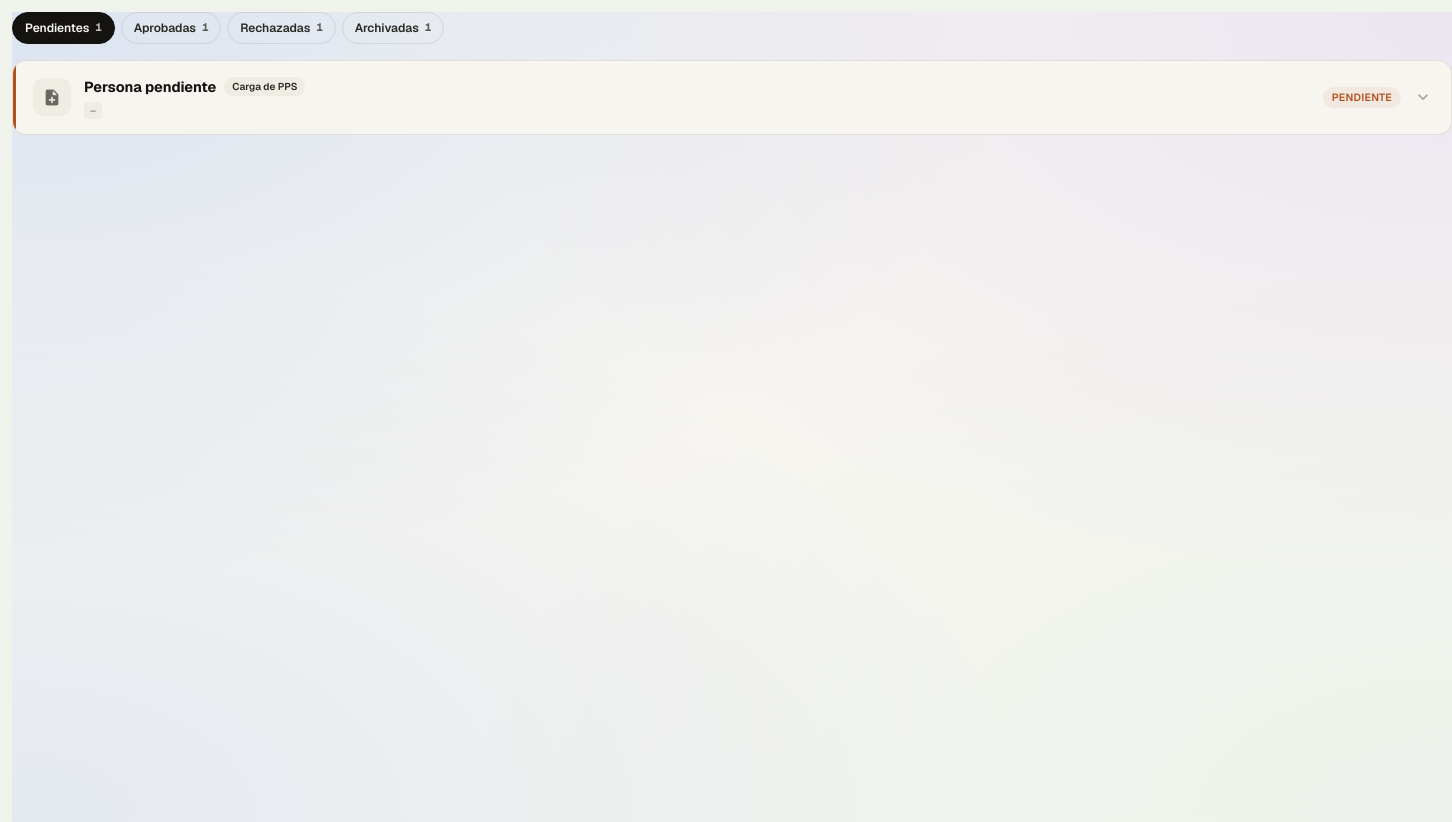
Scenario: abre sólo pendientes y permite consultar cada historial sin mezclar estados
This screenshot has width=1452, height=822.
Expected: the heading "Persona pendiente" is shown, [84,76,216,98]
Expected: the text "Persona aprobada" is not shown
Click the button "Aprobadas 1": click(171, 28) [121,12,221,44]
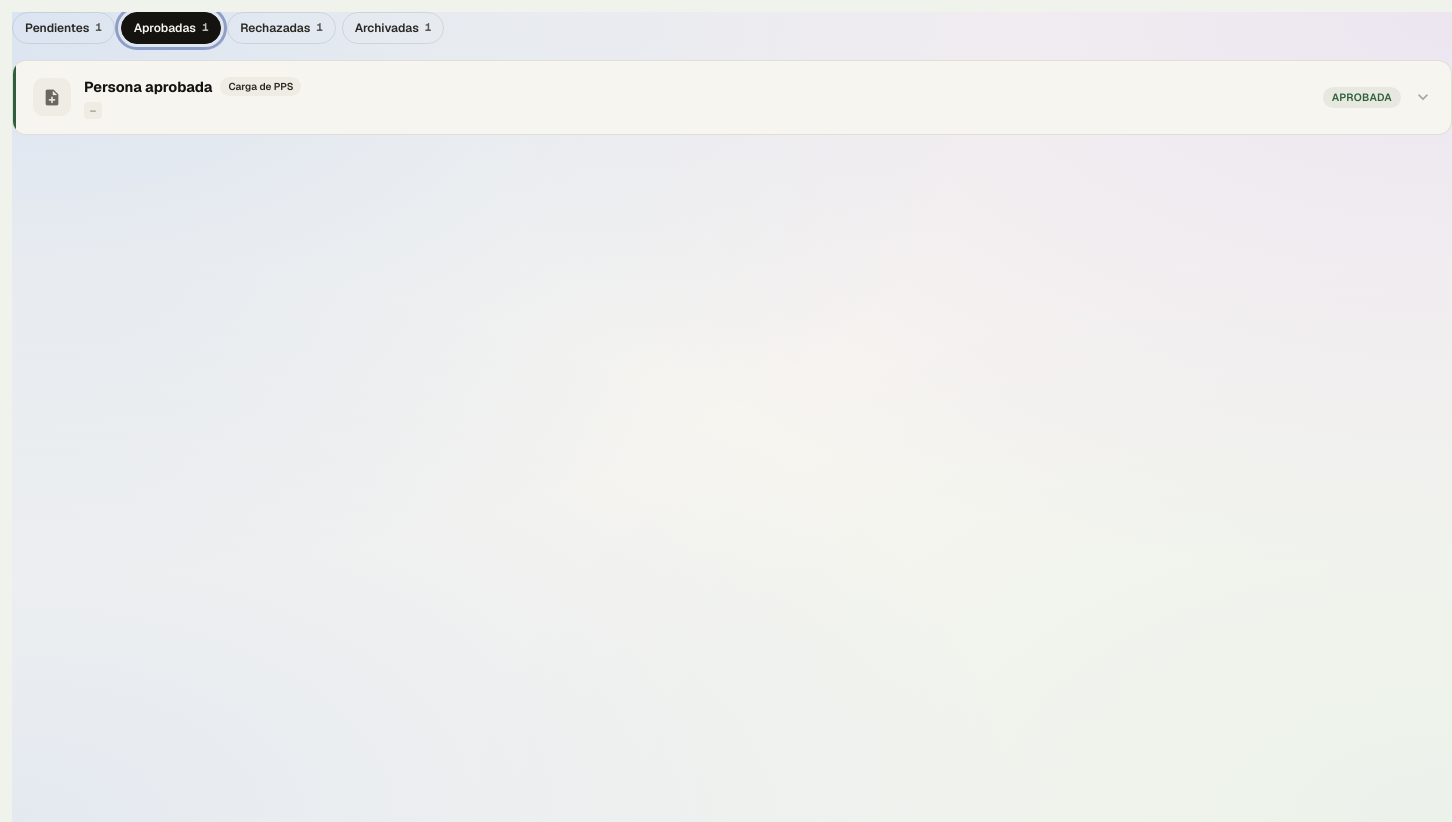
Now the heading "Persona aprobada" is shown, box [84,76,212,98]
Now the heading "Persona pendiente" is gone
Click the button "Rechazadas 1": click(281, 28) [227,12,336,44]
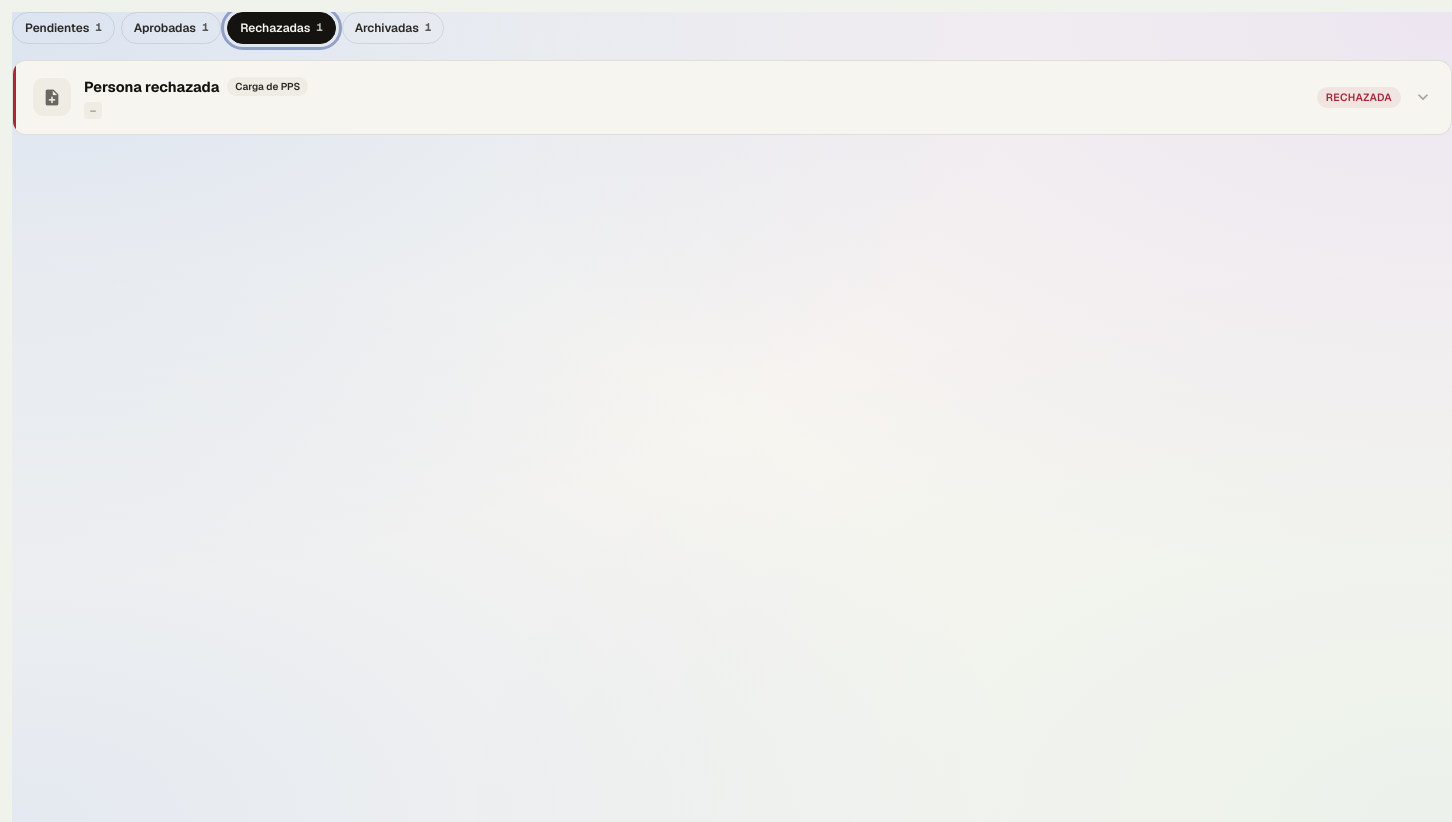
Expected: the heading "Persona pendiente" is not shown
Click the button "Archivadas 1": click(393, 28) [342,12,444,44]
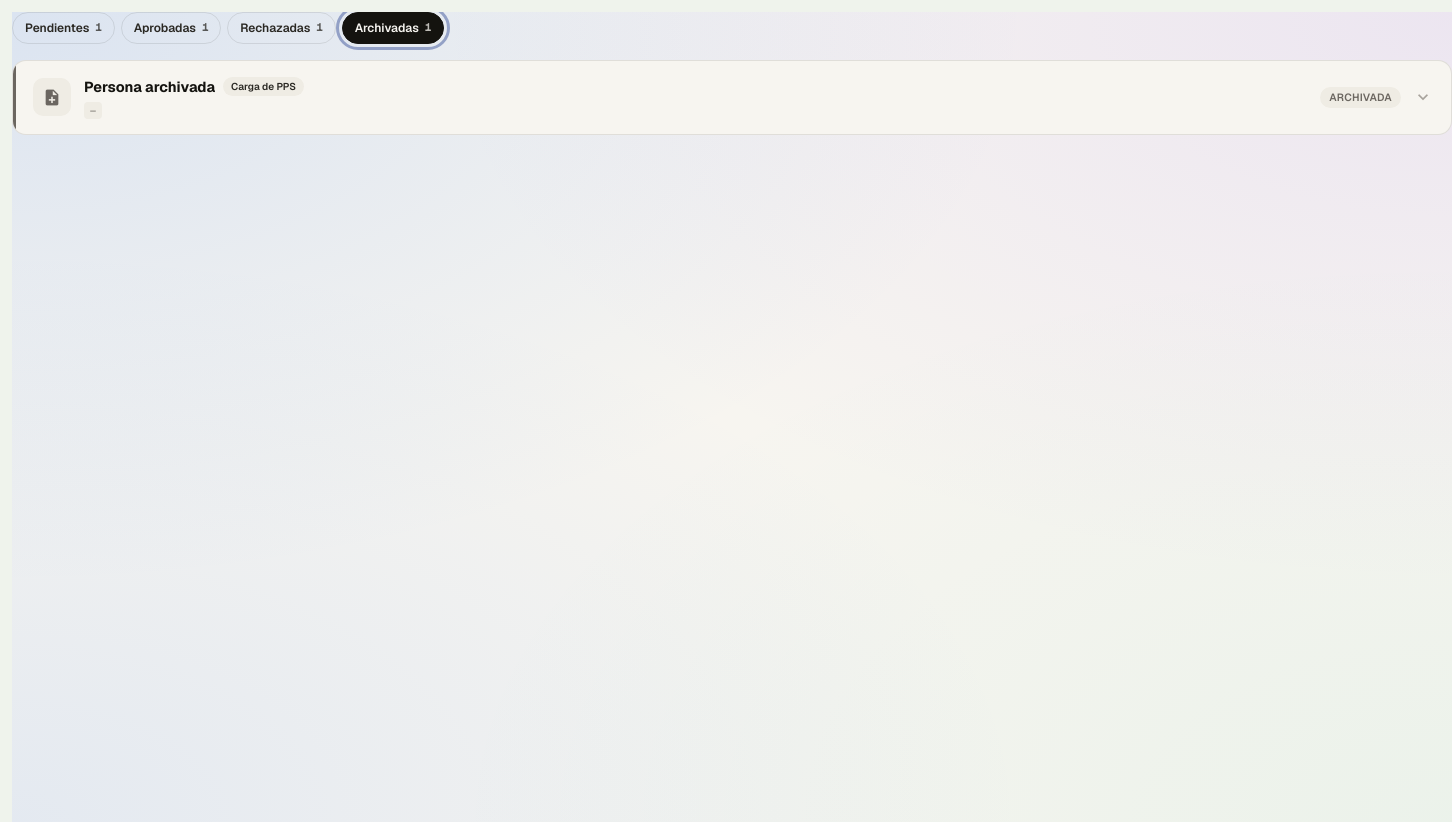
Expected: the heading "Persona pendiente" is not shown
Now the heading "Persona archivada" is shown, box [84,76,215,98]
Now the text "Archivada" is shown, box [1320,86,1401,108]
Click the button "Pendientes 1": click(63, 28) [12,12,115,44]
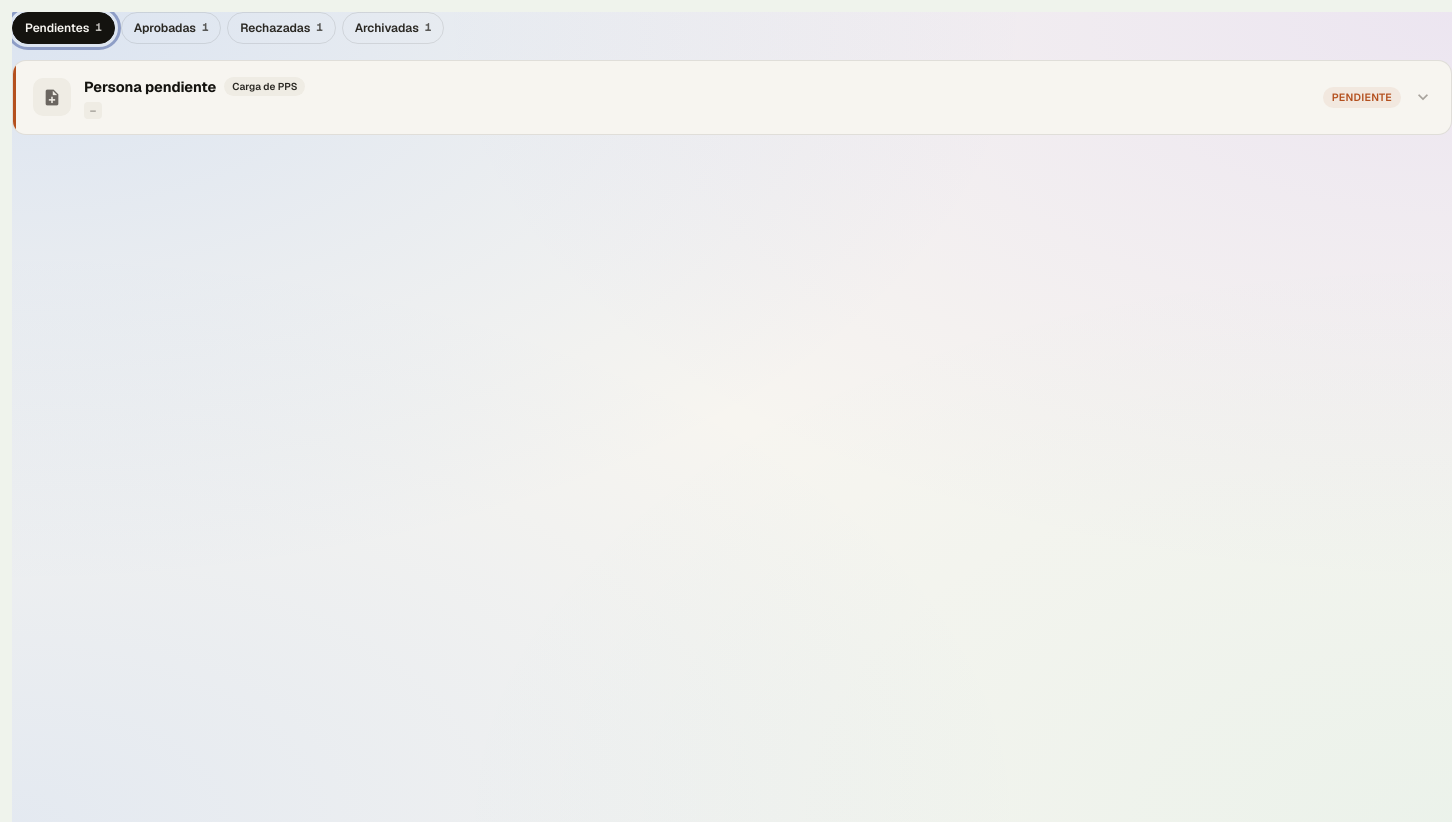
Now the heading "Persona pendiente" is shown, box [84,76,216,98]
